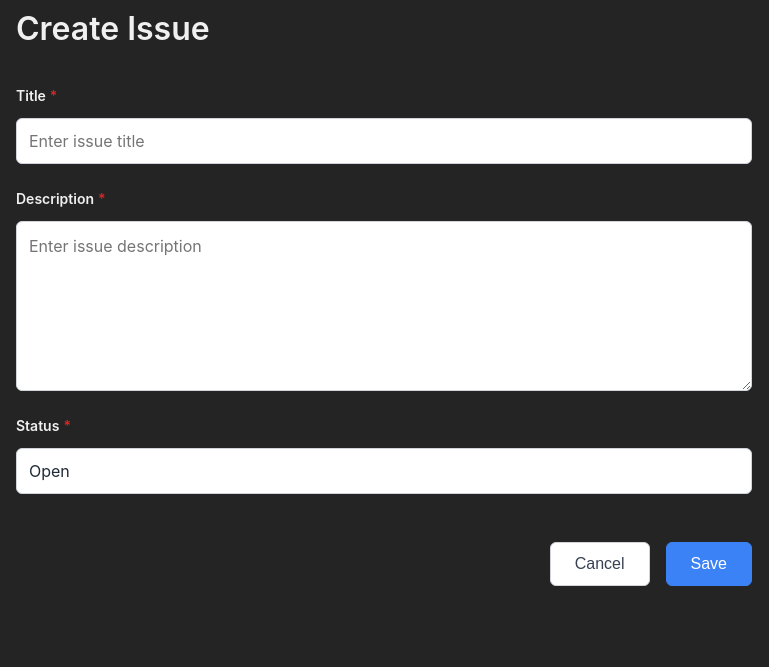
Scenario: CreateIssuePage › validation errors › displays field errors when validation fails
Note: Submit empty form
Step 1. Click the button "Save" → x=709, y=564, box top-left (666, 542), bottom-right (752, 586)
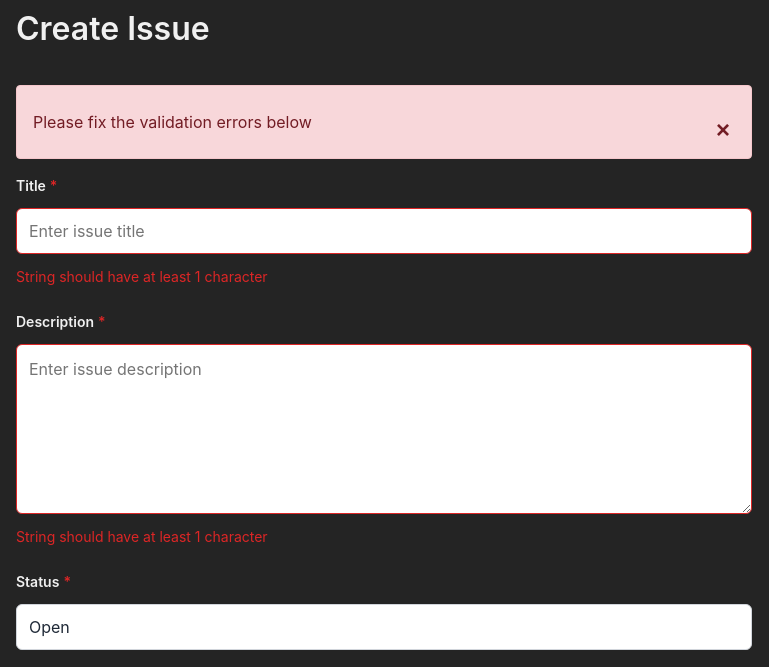
Result: the text "String should have at least 1 character" below "Title" is shown at top-left (16, 268), bottom-right (268, 285)
